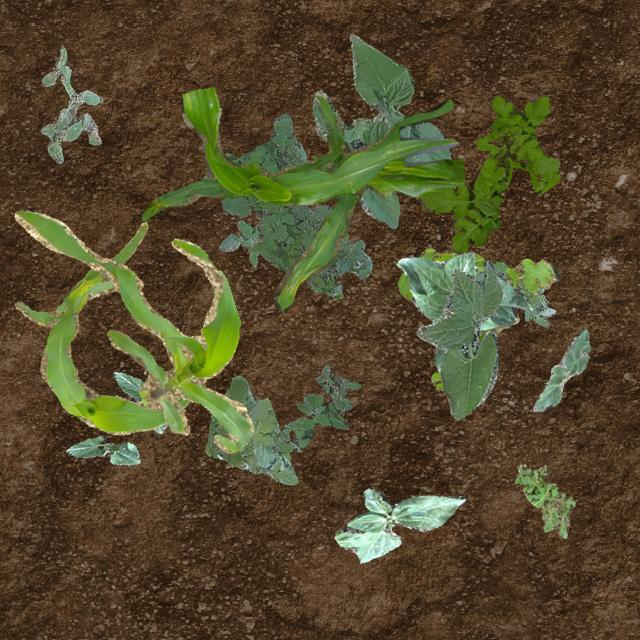crop: (140, 86, 463, 312), (14, 210, 252, 452), (13, 221, 188, 434), (312, 32, 449, 228), (396, 250, 532, 372), (416, 260, 502, 418), (334, 486, 464, 562), (532, 328, 590, 411), (112, 370, 166, 432), (66, 434, 140, 464)
weed: (220, 112, 372, 298), (396, 246, 560, 390), (420, 94, 560, 252), (205, 374, 296, 484), (272, 364, 360, 452), (40, 46, 102, 162), (514, 463, 574, 538), (492, 260, 554, 326), (218, 218, 258, 266)
